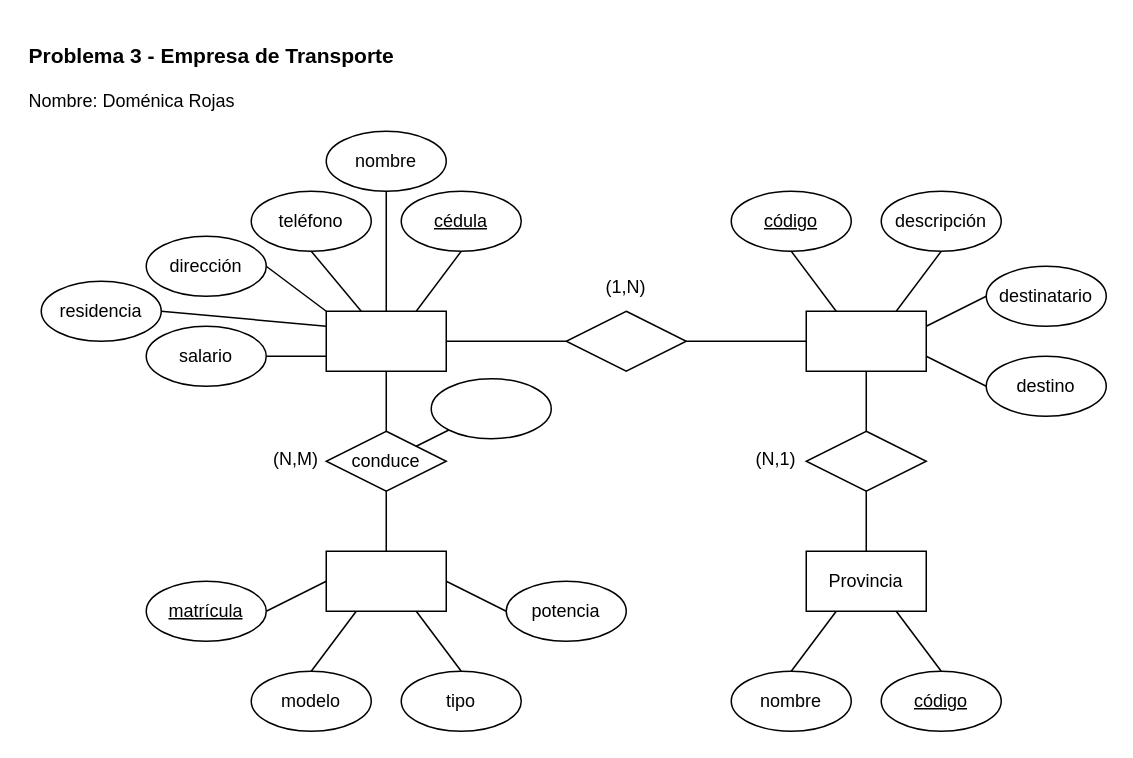
The diagram is 1133 pixels wide and 758 high, and some of its shapes have lost their labels. Here are the shapes that lost their labels. From the top down, the box of each, then its label:
(325, 310, 446, 371): Camionero
(565, 310, 686, 371): distribuye
(805, 310, 926, 371): Paquete
(430, 377, 551, 439): fecha
(805, 430, 926, 491): llega
(325, 550, 446, 611): Camión
